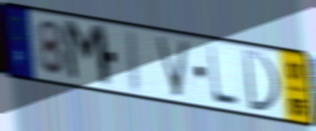8: (35, 18, 67, 77)
D: (241, 48, 283, 116)
I: (126, 26, 143, 96)
L: (206, 44, 241, 110)
M: (60, 17, 115, 91)
V: (152, 34, 192, 100)
